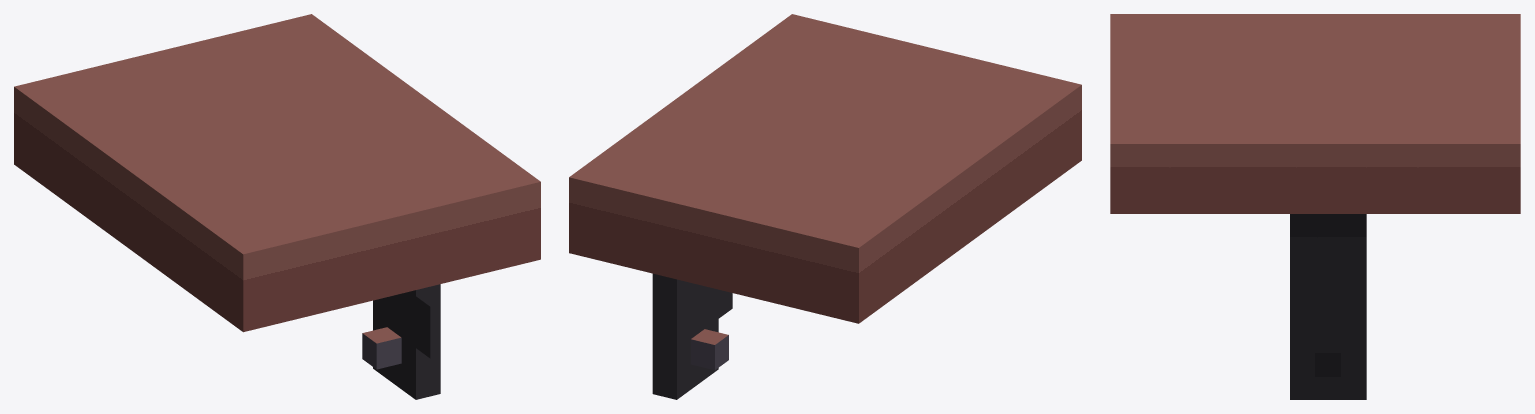
Rendered from int_shelfao.fezao.glb.
3 renders of one model, left to right at view 1: azimuth 30°, elevation 25°; view 2: azimuth 150°, elevation 25°; view 3: azimuth 270°, elevation 25°, orthographic. The views are drawn at different scales.
Visible parts, largest first — view 1: INT_SHELFAO; view 2: INT_SHELFAO; view 3: INT_SHELFAO.
Part boxes in pixels (x1=…): INT_SHELFAO: x1=14, y1=14, x2=540, y2=399; INT_SHELFAO: x1=569, y1=14, x2=1081, y2=399; INT_SHELFAO: x1=1110, y1=14, x2=1520, y2=399.
Size of the model in its own units: 0.75 by 0.6875 by 1.
1 material, 1 textured.
